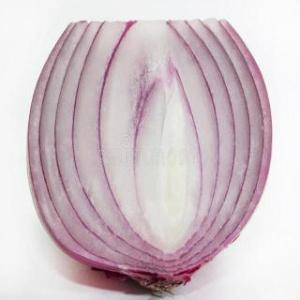onion: (26, 18, 272, 298)
